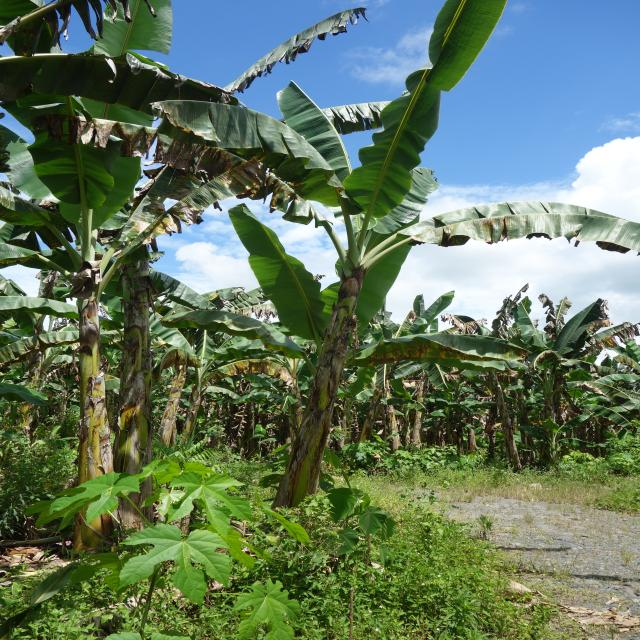Banana-plant: (246, 233, 404, 527), (114, 207, 164, 559), (64, 248, 104, 559)
